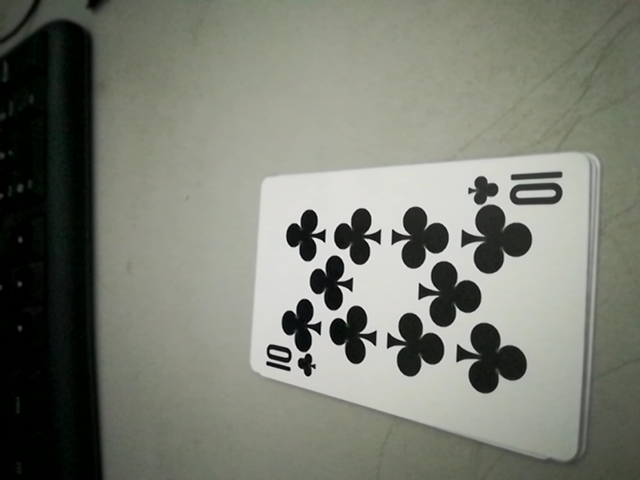mh 10: (467, 165, 574, 209), (258, 346, 322, 385)
